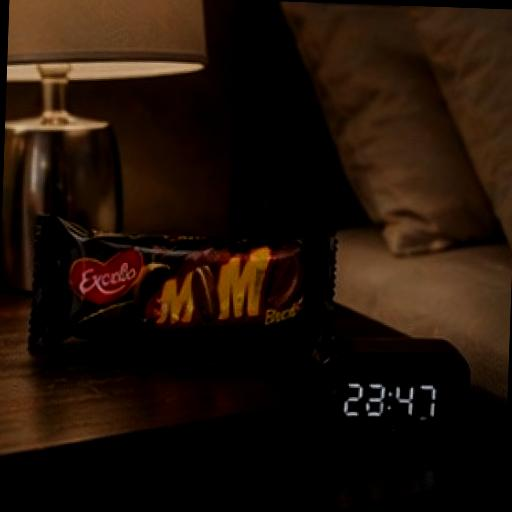MOMO: (7, 190, 388, 421)
